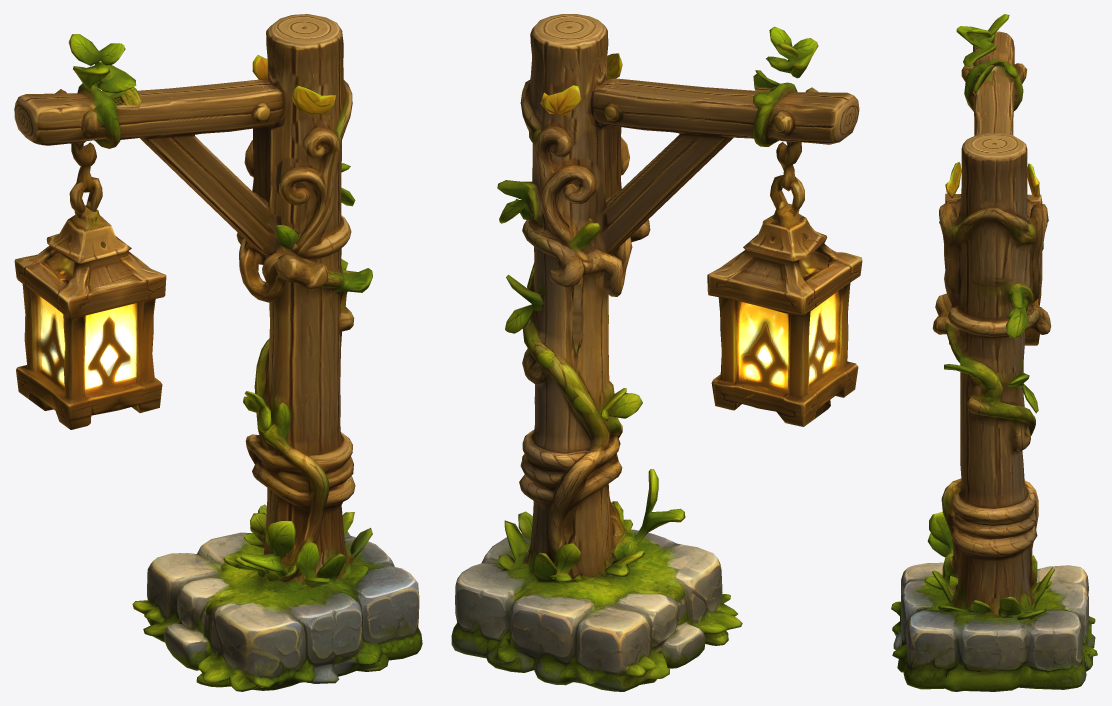
The model's file is Meshy_AI_Vine_Wrapped_Lantern__0701132614_texture.fbx.
The picture shows the model from 3 angles, left to right: view 1: azimuth 30°, elevation 25°; view 2: azimuth 150°, elevation 25°; view 3: azimuth 270°, elevation 25°; orthographic projection. The views are drawn at different scales.
Parts seen in each view (by area): view 1: Mesh_0; view 2: Mesh_0; view 3: Mesh_0.
Part boxes in pixels (left/top/right/bottom): Mesh_0: left=14, top=14, right=422, bottom=691; Mesh_0: left=451, top=14, right=862, bottom=691; Mesh_0: left=891, top=14, right=1097, bottom=691.
Bounding box in the file's own units: 110 × 191 × 64.19.
1 material, 1 textured.
